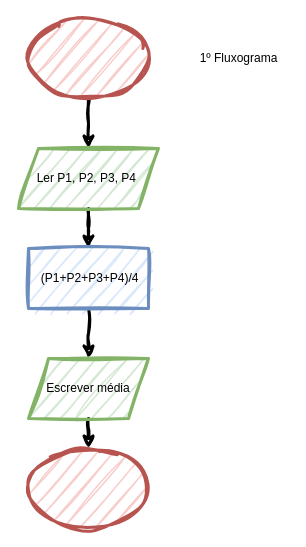
This 306x547 diagram has some shape labels left out. Here are the shapes that lost their labels. From the top down, the centre of each, then its label:
the point at 88,58: Início
the point at 88,488: Fim
